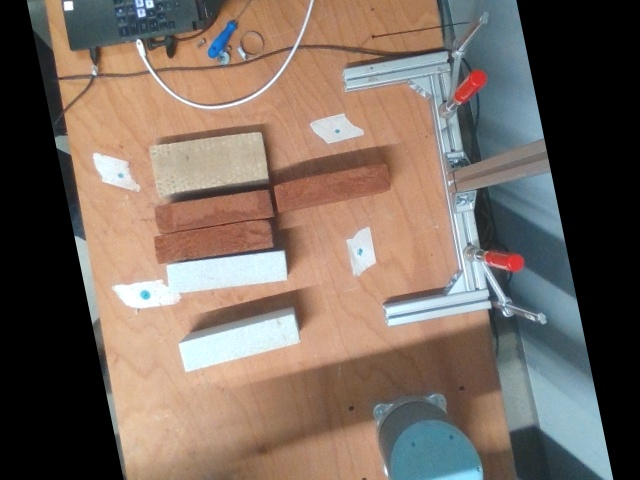brick: (151, 131, 268, 195)
brick-side: (179, 313, 299, 370), (154, 188, 271, 234), (155, 217, 272, 263), (273, 164, 388, 209), (166, 252, 285, 292)
